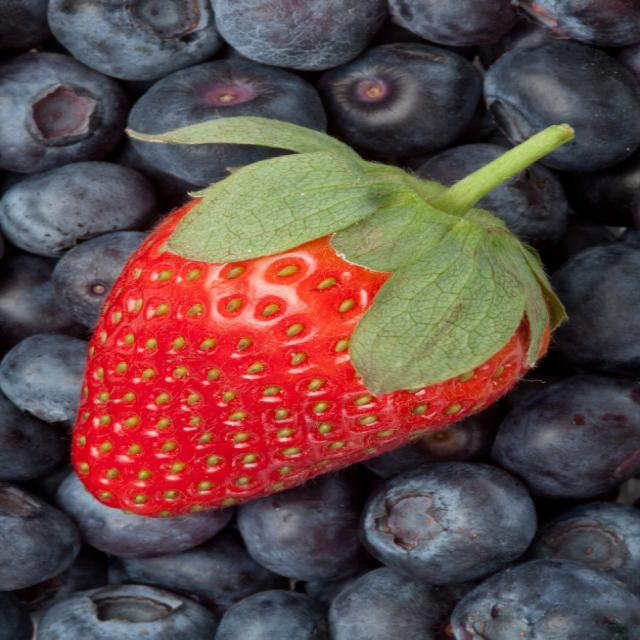strawberry: (55, 94, 612, 526)
